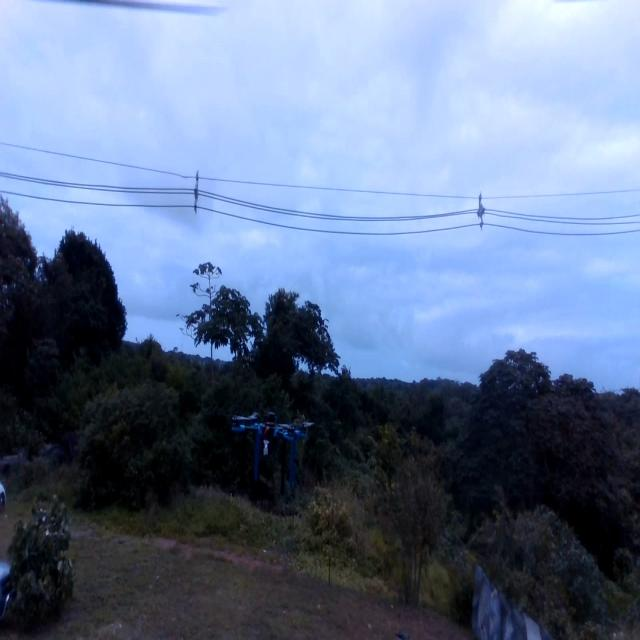-uav-: (223, 408, 321, 500)
